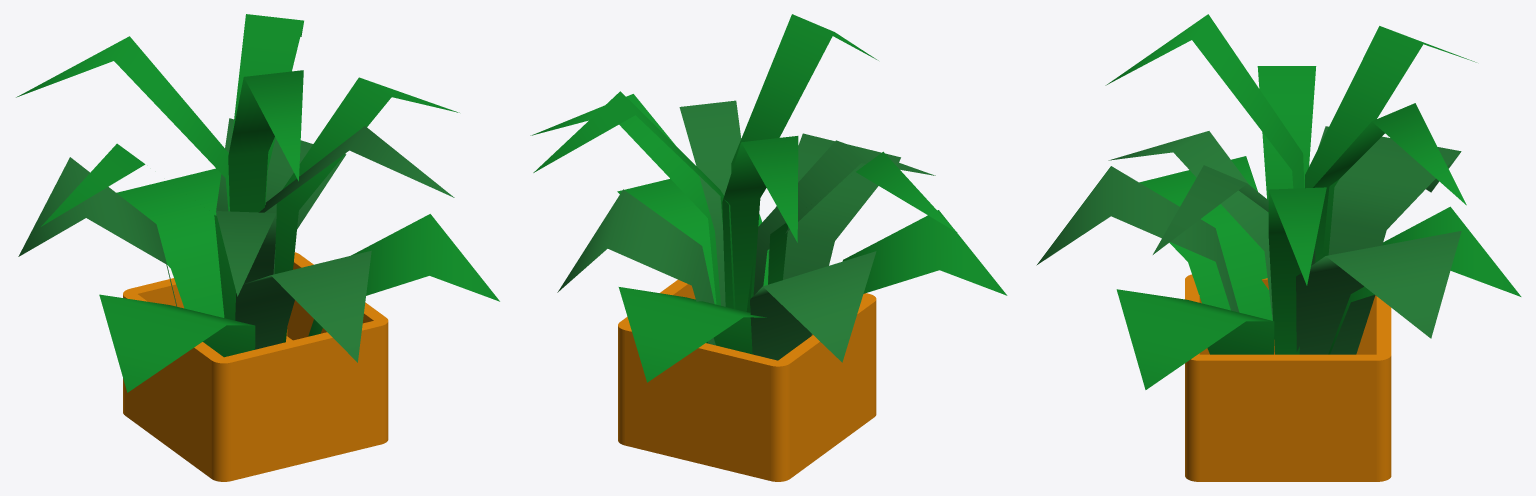
The model's file is Zimmerpflanze2.fbx.
3 renders of one model, left to right at view 1: azimuth 30°, elevation 25°; view 2: azimuth 150°, elevation 25°; view 3: azimuth 270°, elevation 25°, orthographic. The views are drawn at different scales.
Parts seen in each view (by area): view 1: mergedBlocks; view 2: mergedBlocks; view 3: mergedBlocks.
Part boxes in pixels (bbox=[...]): mergedBlocks: bbox=[16, 14, 499, 481]; mergedBlocks: bbox=[530, 14, 1007, 481]; mergedBlocks: bbox=[1036, 14, 1521, 481].
Size of the model in its own units: 24.63 by 21.31 by 23.52.
